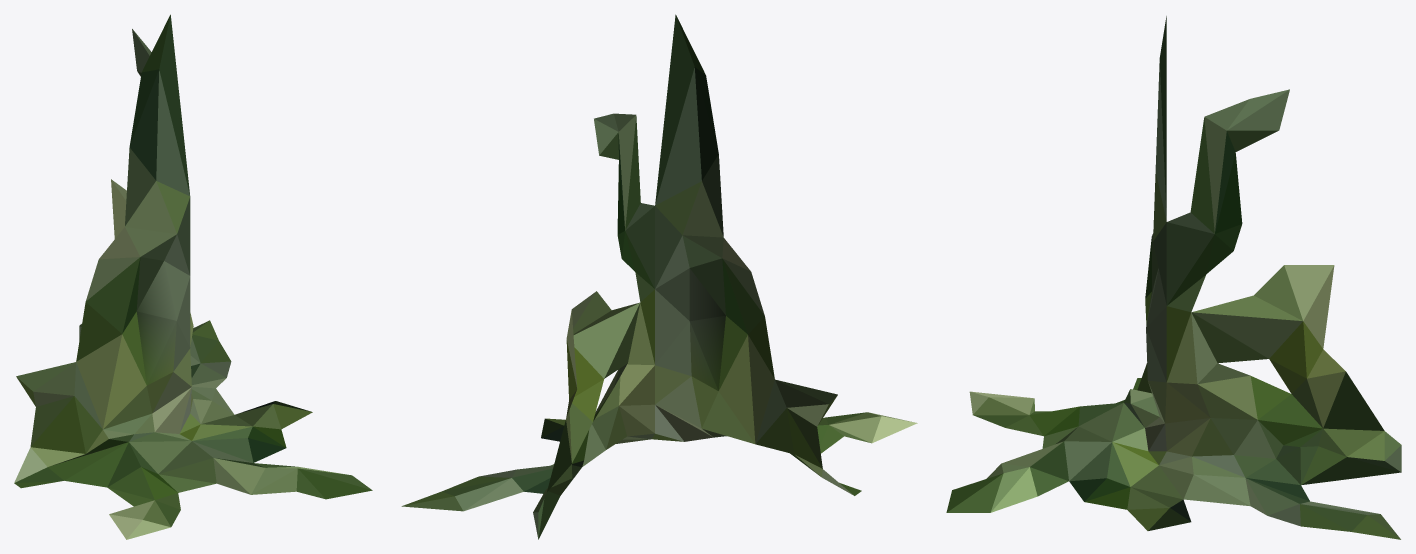
Rendered from Decal_IvyCorner-B.fbx.
3 renders of one model, left to right at view 1: azimuth 30°, elevation 25°; view 2: azimuth 150°, elevation 25°; view 3: azimuth 270°, elevation 25°, orthographic. The views are drawn at different scales.
Parts seen in each view (by area): view 1: Decal_IvyCorner-B; view 2: Decal_IvyCorner-B; view 3: Decal_IvyCorner-B.
Part boxes in pixels (x1,y1,x2,y2): Decal_IvyCorner-B: [14, 14, 372, 539]; Decal_IvyCorner-B: [401, 14, 917, 539]; Decal_IvyCorner-B: [946, 16, 1401, 539].
Bounding box in the file's own units: 500 × 645 × 594.
